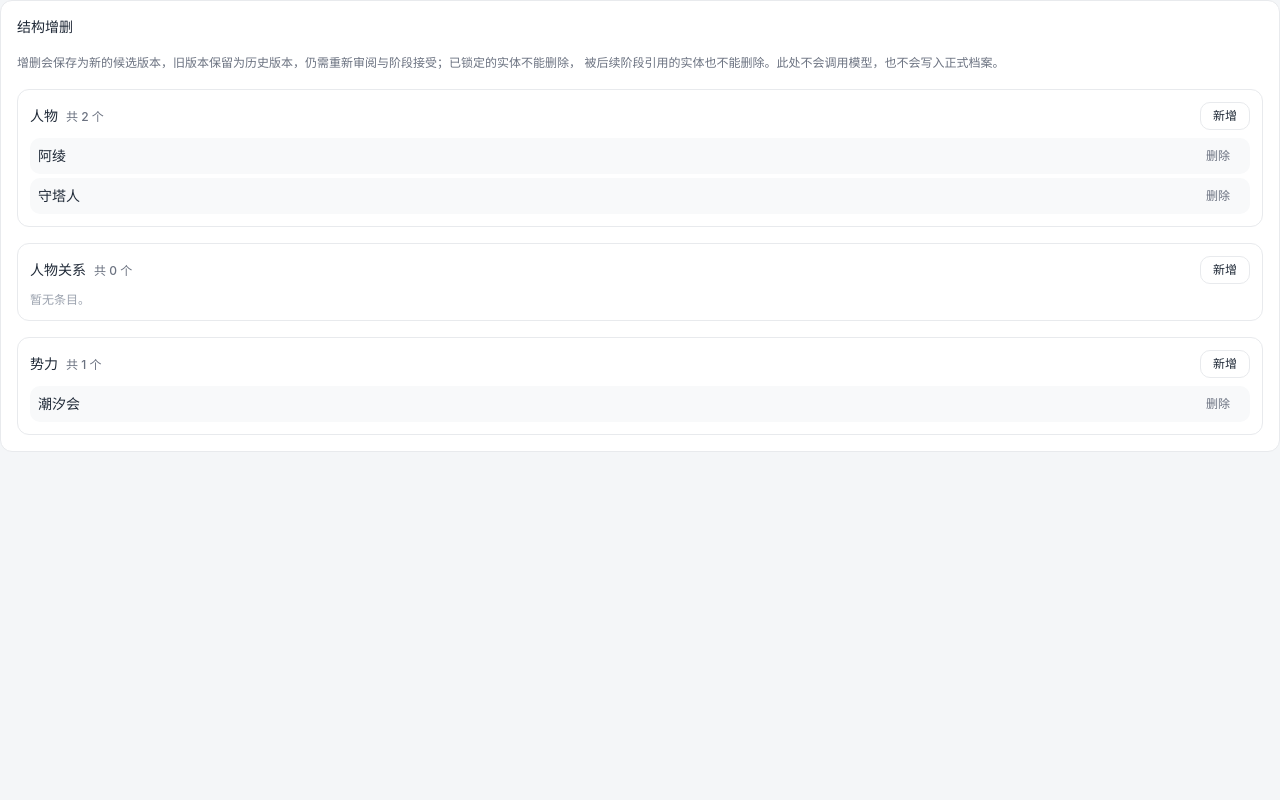
Test: 删除被后端拒绝时原样展示错误、保留确认框且不重试
The width and height of the screenshot is (1280, 800).
Click the button with aria-label "删除 人物 阿绫" at (1218, 156), box [1194,142,1242,170]
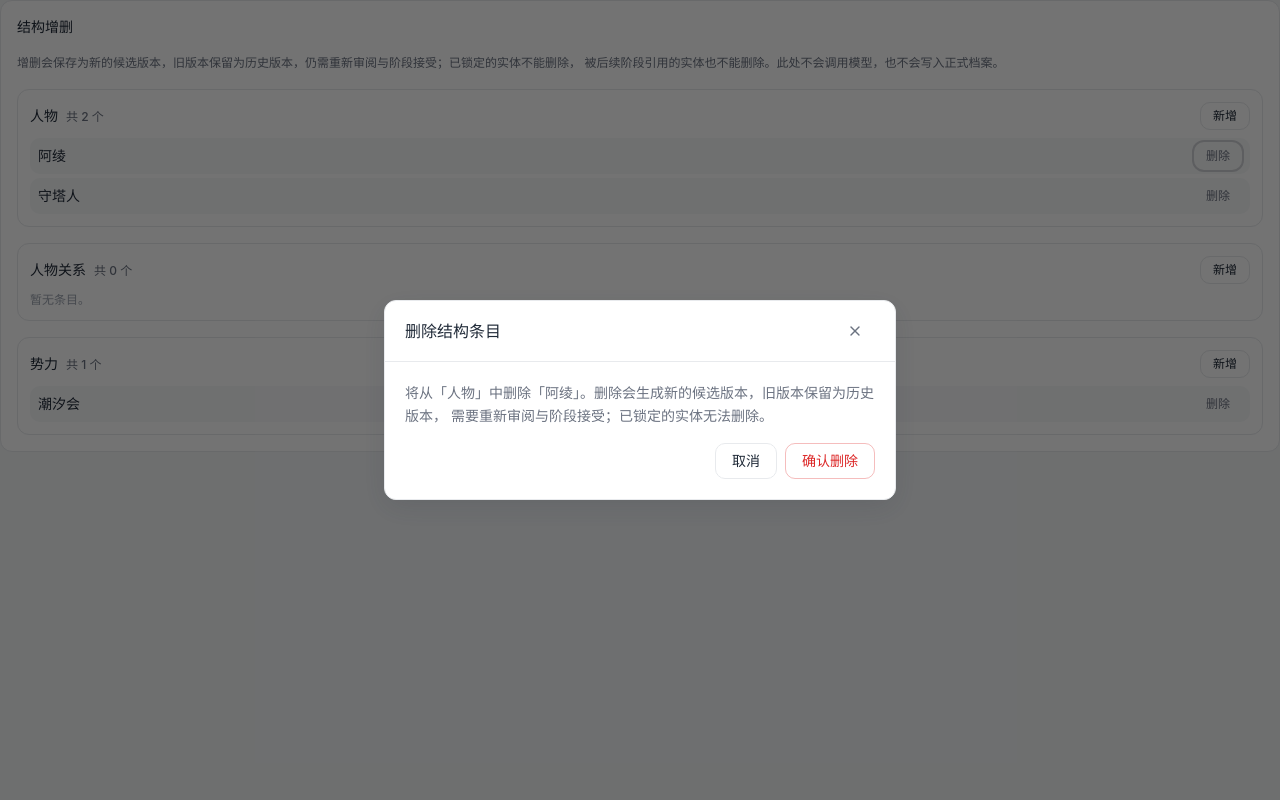
Click the button with aria-label "确认删除 人物 阿绫" at (830, 461), box [785,443,875,479]
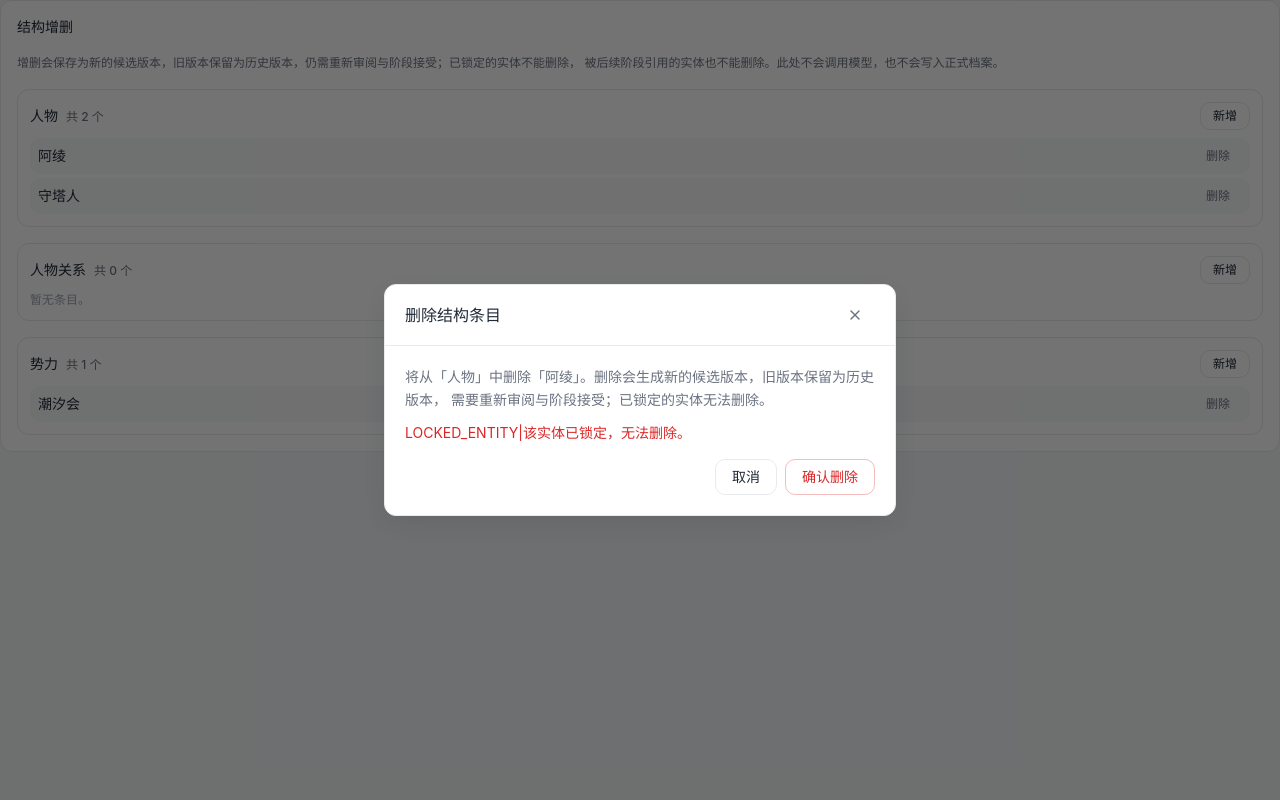
Now the dialog is shown
Now the message reads "LOCKED_ENTITY|该实体已锁定，无法删除。", box [405,424,691,441]
